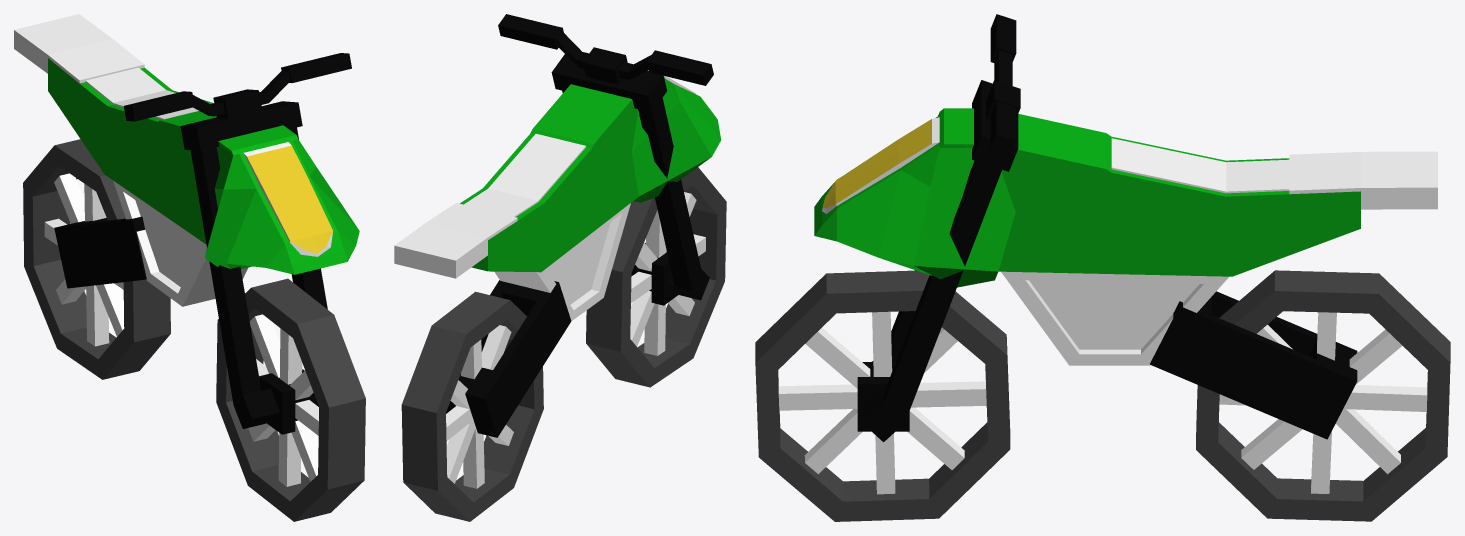
File: Bike.fbx
The picture shows the model from 3 angles, left to right: view 1: azimuth 30°, elevation 25°; view 2: azimuth 150°, elevation 25°; view 3: azimuth 270°, elevation 25°; orthographic projection. The views are drawn at different scales.
Visible parts, largest first — view 1: BodyGreen, WheelFront, WheelBack; view 2: BodyGreen, WheelBack, WheelFront; view 3: BodyGreen, WheelFront, WheelBack.
Part boxes in pixels (<box>): BodyGreen: <box>14,14,359,434</box>; WheelFront: <box>216,278,365,521</box>; WheelBack: <box>23,139,170,379</box>; BodyGreen: <box>394,14,721,437</box>; WheelBack: <box>401,291,543,521</box>; WheelFront: <box>586,167,726,387</box>; BodyGreen: <box>814,14,1437,442</box>; WheelFront: <box>755,270,1010,521</box>; WheelBack: <box>1196,270,1450,521</box>.
Size of the model in its own units: 95.39 by 162 by 233.
